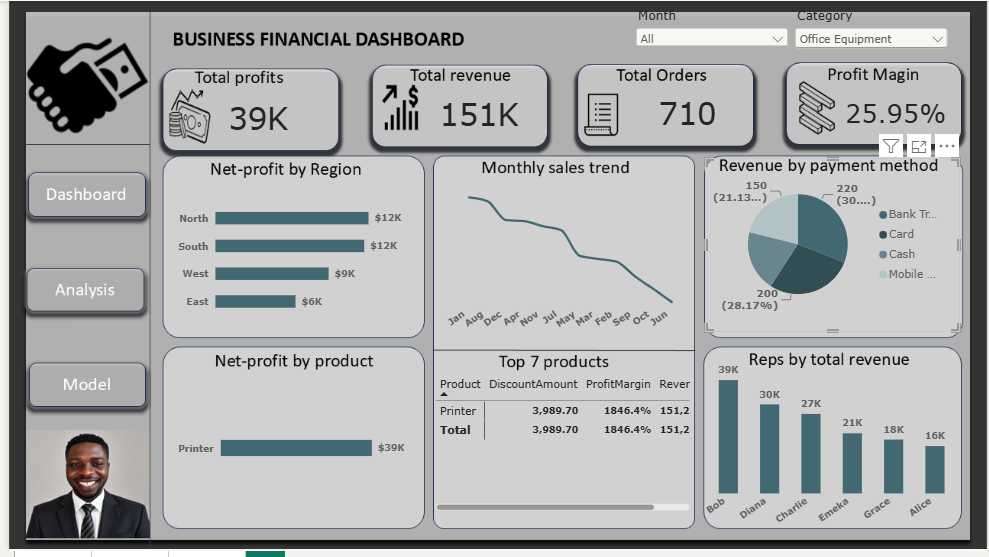

The dashboard page shown, as its layout file describes it:
{"tool":"powerbi","page":{"name":"Page 3","canvas":[1280,720],"ordinal":1},"visuals":[{"type":"clusteredBarChart","fields":{"Category":["Products (2).Product"],"Y":["Sum(Sales.NetProfit)"]},"box":[204.5,483.8,329.8,198.7],"z":0},{"type":"clusteredBarChart","fields":{"Category":["Sales.Region"],"Y":["Sum(Sales.NetProfit)"]},"box":[204.5,239,329.8,194.4],"z":1000},{"type":"lineChart","fields":{"Category":["Sales.Month Name"],"Y":["Sum(Sales.NetProfit)"]},"box":[557.3,229,335.5,229],"z":2000},{"type":"pieChart","fields":{"Series":["Sales.PaymentMethod"],"Y":["Sum(Sales.Total orders)"]},"box":[911.5,205.9,334.1,227.5],"z":3000},{"type":"cardVisual","fields":{"Data":["Sum(Sales.Revenue)"]},"box":[547.1,107.1,152.9,80],"z":4000},{"type":"cardVisual","fields":{"Data":["Sum(Sales.NetProfit)"]},"box":[270.7,118.1,155.5,69.1],"z":5000},{"type":"cardVisual","fields":{"Data":["Sum(Sales.Total orders)"]},"box":[833.8,106.6,128.2,80.6],"z":6000},{"type":"cardVisual","fields":{"Data":["Sales.profit margin %"]},"box":[1078.6,112.9,167.1,67.1],"z":7000},{"type":"pivotTable","fields":{"Rows":["Products (2).Product"],"Values":["Sum(Sales.DiscountAmount)","Sum(Sales.ProfitMargin)","Sum(Sales.Revenue)"]},"box":[542.9,475.7,364.4,207.8],"z":8000},{"type":"columnChart","fields":{"Category":["Sales.SalesRep"],"Y":["Sum(Sales.Revenue)"]},"box":[891.4,450,372.9,264.3],"z":9000},{"type":"slicer","fields":{"Values":["Sales.TransactionDate.Variation.Date Hierarchy.Month"]},"box":[815.7,8.6,208.6,48.6],"z":10000},{"type":"slicer","fields":{"Values":["Products (2).Category"]},"box":[1024.3,8.6,210,67.1],"z":11000}]}

Visuals, with their boxes on the page's 1280x720 design canvas (x1, y1, x2, y2). These are canvas units, not pixel positions in the 989x557 screenshot, which may show the page scaled, cropped or inside an application window:
clusteredBarChart - Products (2).Product x Sum(Sales.NetProfit): x1=204 y1=484 x2=534 y2=682
clusteredBarChart - Sales.Region x Sum(Sales.NetProfit): x1=204 y1=239 x2=534 y2=433
lineChart - Sales.Month Name x Sum(Sales.NetProfit): x1=557 y1=229 x2=893 y2=458
pieChart - Sales.PaymentMethod x Sum(Sales.Total orders): x1=912 y1=206 x2=1246 y2=433
cardVisual - Sum(Sales.Revenue): x1=547 y1=107 x2=700 y2=187
cardVisual - Sum(Sales.NetProfit): x1=271 y1=118 x2=426 y2=187
cardVisual - Sum(Sales.Total orders): x1=834 y1=107 x2=962 y2=187
cardVisual - Sales.profit margin %: x1=1079 y1=113 x2=1246 y2=180
pivotTable - Products (2).Product x Sum(Sales.DiscountAmount): x1=543 y1=476 x2=907 y2=684
columnChart - Sales.SalesRep x Sum(Sales.Revenue): x1=891 y1=450 x2=1264 y2=714
slicer - Sales.TransactionDate.Variation.Date Hierarchy.Month: x1=816 y1=9 x2=1024 y2=57
slicer - Products (2).Category: x1=1024 y1=9 x2=1234 y2=76
